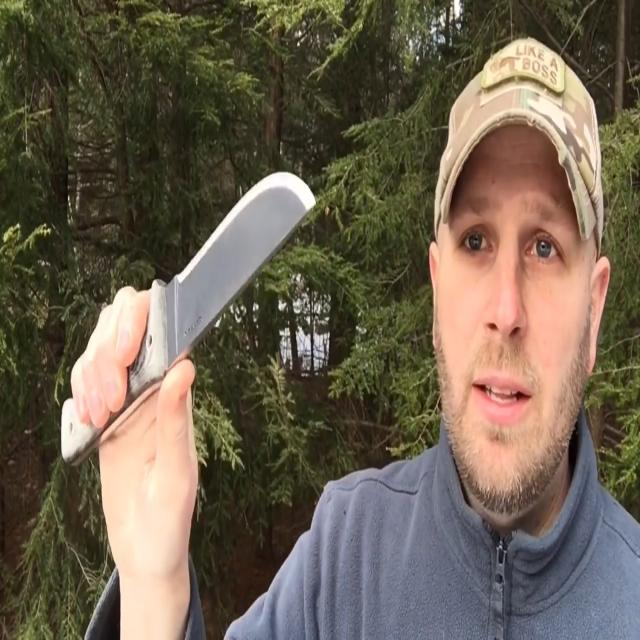knife: (59, 166, 322, 470)
